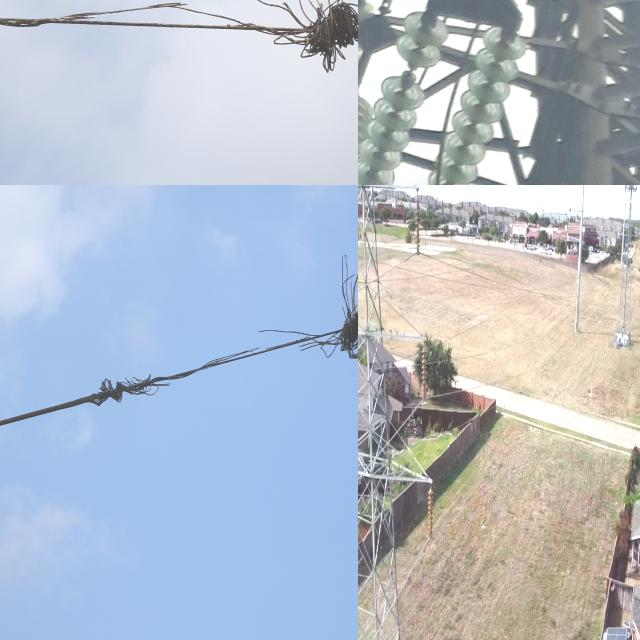杆塔: (358, 0, 640, 185), (358, 185, 429, 640), (611, 185, 640, 348)
正常绝缘子: (415, 22, 545, 185), (358, 0, 462, 185), (409, 185, 428, 257), (416, 337, 432, 413), (426, 479, 438, 563)
电缆破损: (84, 245, 358, 430), (0, 0, 358, 80)
绝缘子破损: (398, 67, 420, 81)
